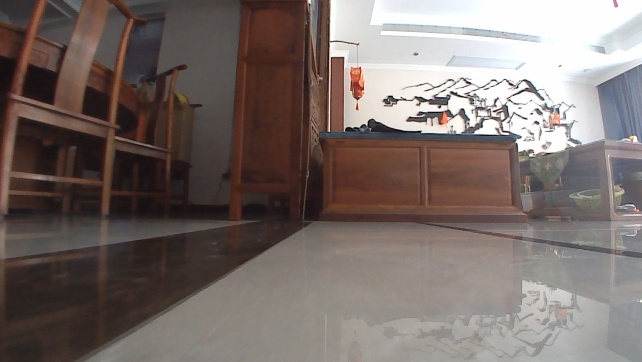dining_table: (0, 0, 201, 216)
tea_table1: (520, 135, 640, 226)
